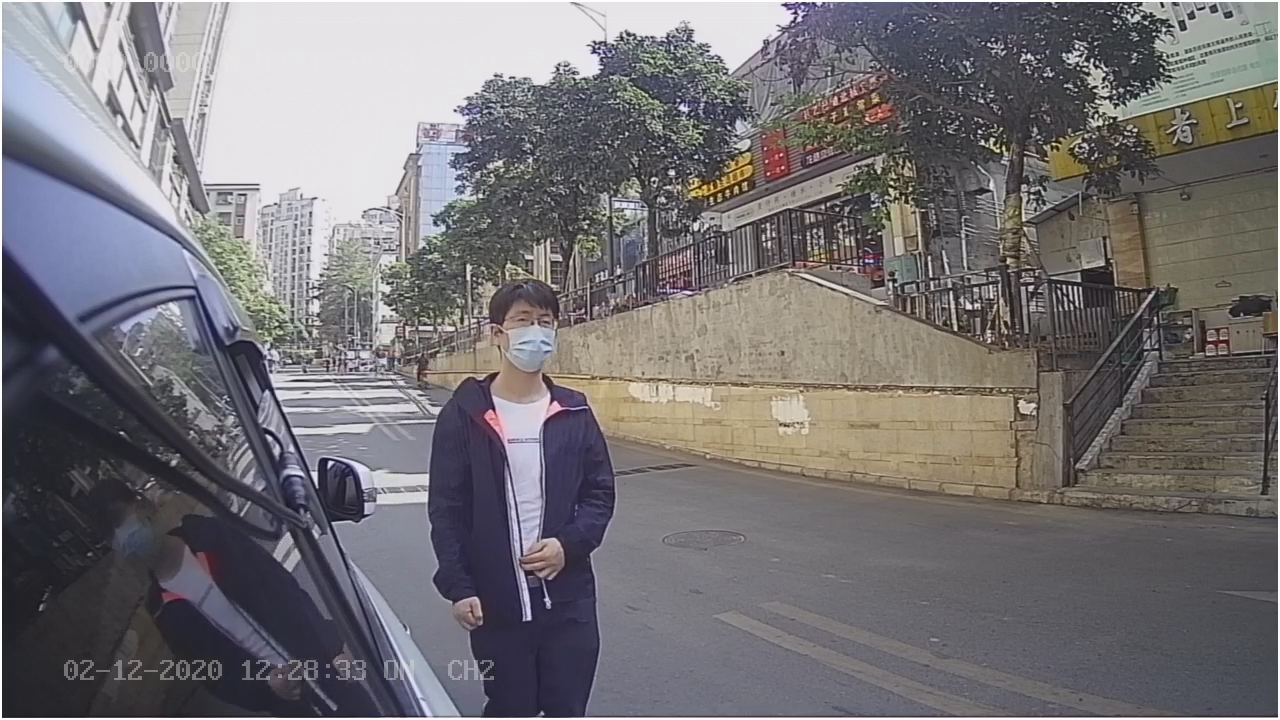person: (423, 270, 624, 630)
